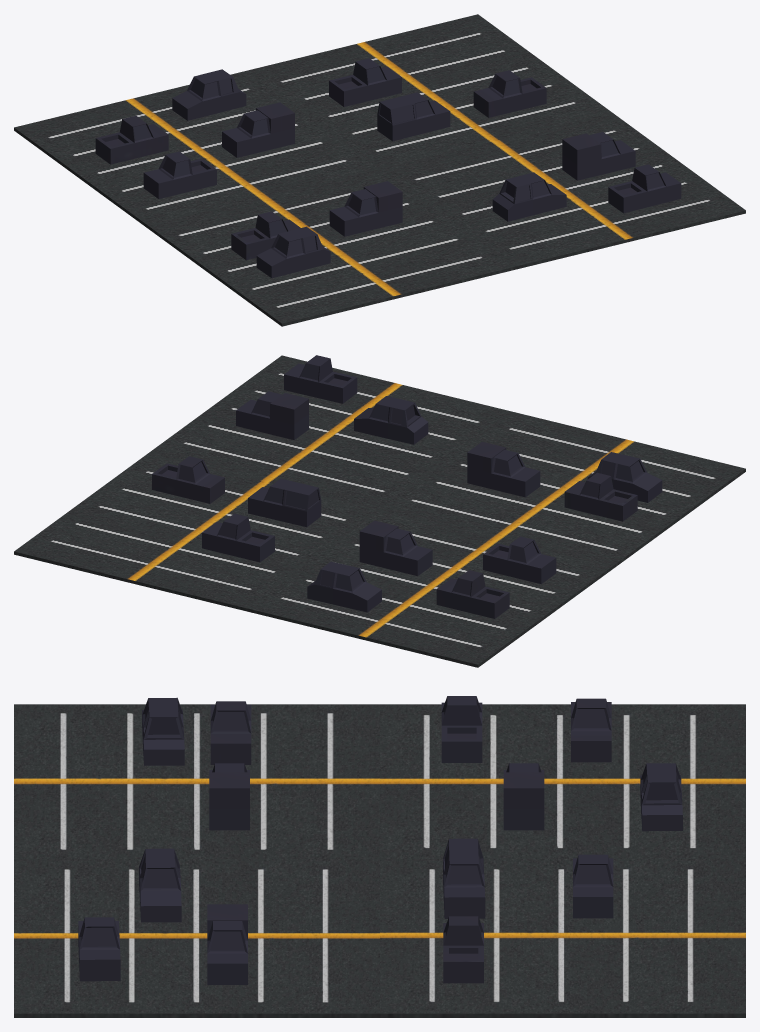
File: Burned_ParkingLot.fbx
The picture shows the model from 3 angles, top to bottom: view 1: azimuth 30°, elevation 25°; view 2: azimuth 150°, elevation 25°; view 3: azimuth 270°, elevation 25°; orthographic projection. The views are drawn at different scales.
Parts seen in each view (by area): view 1: Cube.034; view 2: Cube.034; view 3: Cube.034.
Part boxes in pixels (left/top/right/bottom): Cube.034: left=14, top=14, right=745, bottom=326; Cube.034: left=14, top=355, right=745, bottom=667; Cube.034: left=14, top=696, right=745, bottom=1017.
Size of the model in its own units: 4015 by 307 by 4015.
